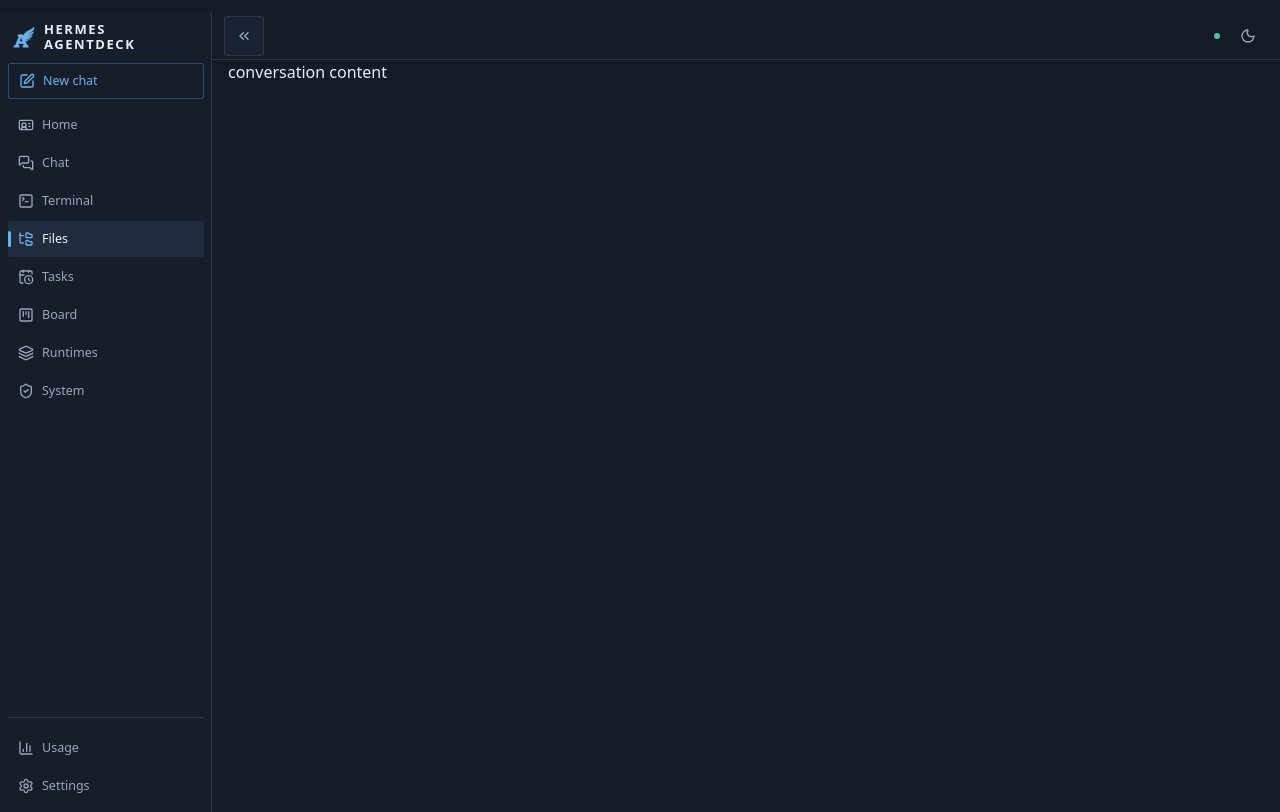
AppShell › surfaces the wordmark in the header when the rail is collapsed
This screenshot has width=1280, height=812.
What coordinates should you click on to do the following:
click the button named "collapse sidebar"
I would click on:
 (244, 36)
Its box is [224,16,264,56].
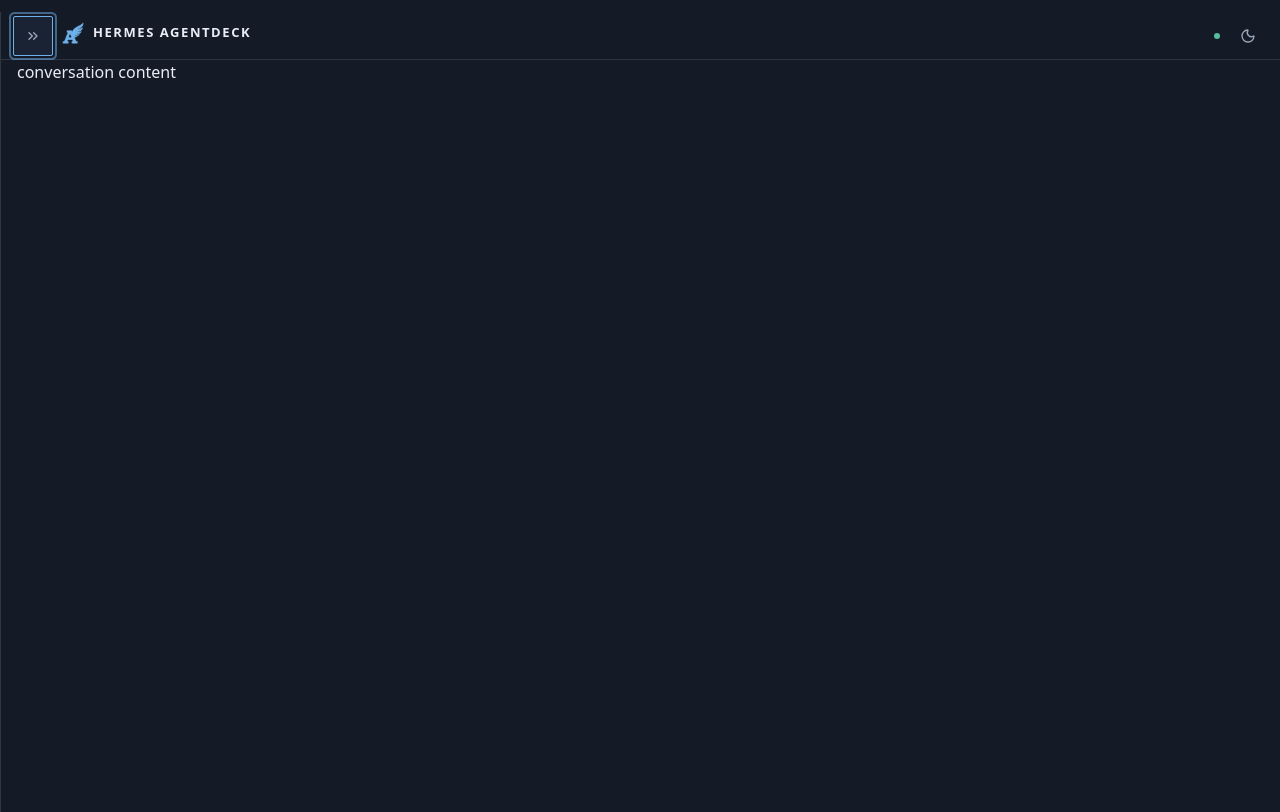
Expected: the text "Hermes Agentdeck" is shown, [93,25,251,40]
